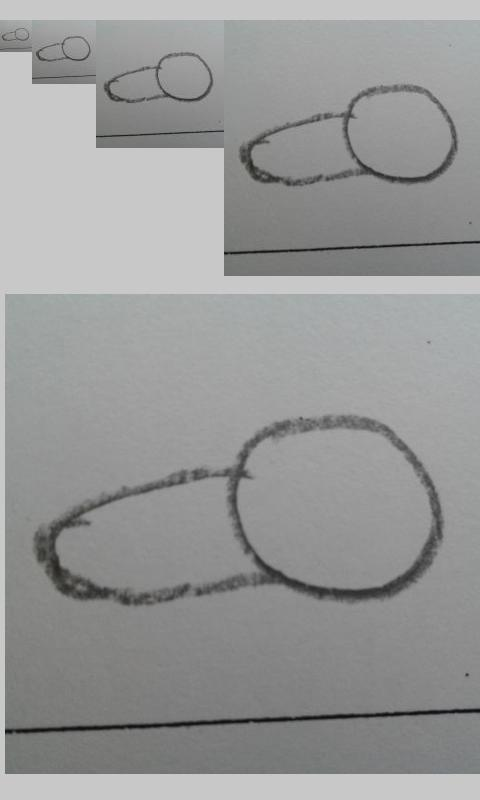switch: (32, 412, 446, 608), (239, 84, 458, 188), (104, 52, 214, 103), (35, 36, 91, 62), (1, 27, 30, 41)
